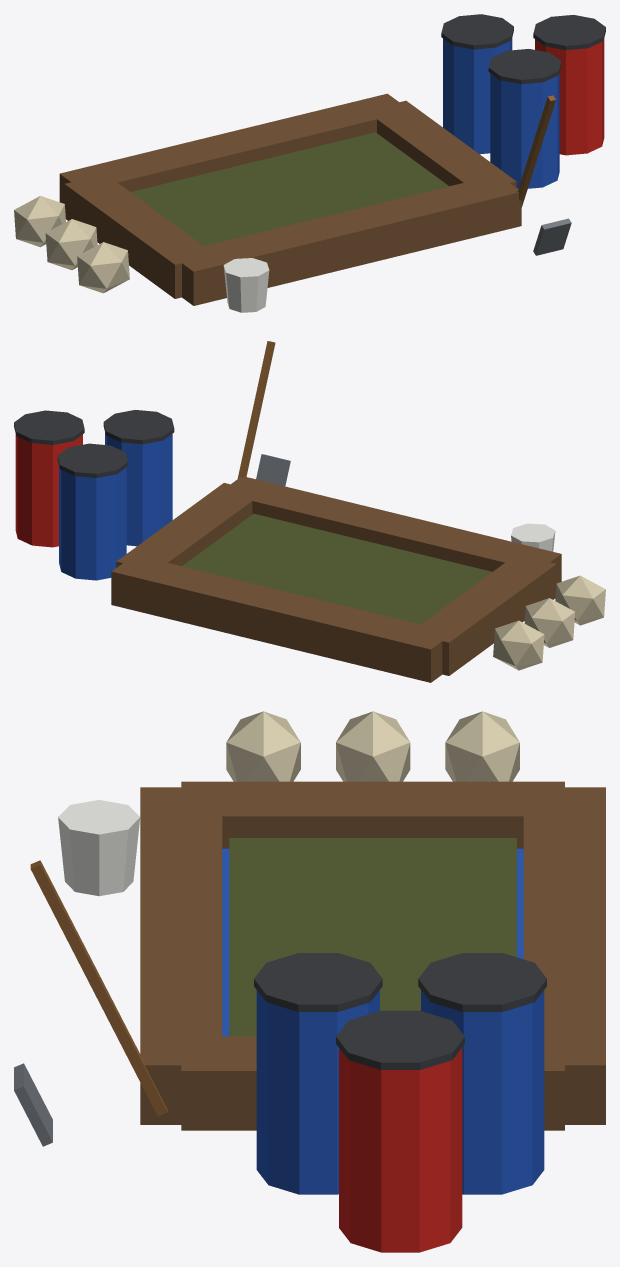
File: Fosa de maceracion.fbx
3 renders of one model, top to bottom at view 1: azimuth 30°, elevation 25°; view 2: azimuth 150°, elevation 25°; view 3: azimuth 270°, elevation 25°, orthographic. The views are drawn at different scales.
Parts seen in each view (by area): view 1: Fosa de maceracion; view 2: Fosa de maceracion; view 3: Fosa de maceracion.
Part boxes in pixels (bbox=[...]): Fosa de maceracion: bbox=[14, 14, 605, 312]; Fosa de maceracion: bbox=[14, 341, 605, 682]; Fosa de maceracion: bbox=[14, 711, 605, 1252].
Bounding box in the file's own units: 4.1 × 1.1 × 2.16.
